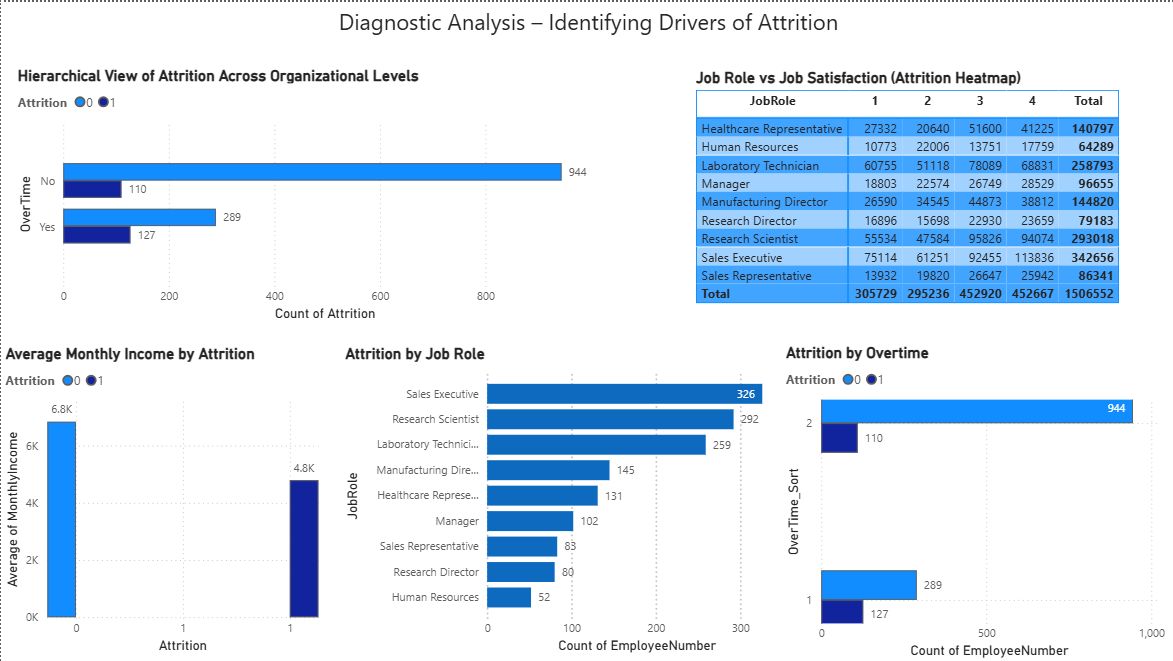

The dashboard page shown, as its layout file describes it:
{"tool":"powerbi","page":{"name":"DIAGNOSTIC ANALYSIS","canvas":[1280,720],"ordinal":1},"visuals":[{"type":"clusteredBarChart","title":"Attrition by Job Role","fields":{"Category":["cleaned_hr_data.JobRole"],"Y":["CountNonNull(cleaned_hr_data.EmployeeNumber)"]},"box":[369.6,373,501.4,340.5],"z":0},{"type":"clusteredColumnChart","title":"Average Monthly Income by Attrition","fields":{"Category":["cleaned_hr_data.Attrition"],"Y":["Avg(cleaned_hr_data.MonthlyIncome)"],"Series":["cleaned_hr_data.Attrition"]},"box":[0,373,350.8,340.5],"z":1000},{"type":"clusteredBarChart","title":"Attrition by Overtime","fields":{"Category":["cleaned_hr_data.OverTime_Sort"],"Series":["cleaned_hr_data.Attrition"],"Y":["CountNonNull(cleaned_hr_data.EmployeeNumber)"]},"box":[849.9,372.7,430,347.4],"z":2000},{"type":"clusteredBarChart","title":"Hierarchical View of Attrition Across Organizational Levels","fields":{"Category":["cleaned_hr_data.Department Hierarchy.Department","cleaned_hr_data.Department Hierarchy.JobRole","cleaned_hr_data.Department Hierarchy.OverTime","cleaned_hr_data.Department Hierarchy.JobSatisfaction"],"Y":["CountNonNull(cleaned_hr_data.Attrition)"],"Series":["cleaned_hr_data.Attrition"]},"box":[13.7,70.2,640,282.3],"z":3000},{"type":"pivotTable","title":"Job Role vs Job Satisfaction (Attrition Heatmap)","fields":{"Rows":["cleaned_hr_data.JobRole"],"Columns":["cleaned_hr_data.JobSatisfaction"],"Values":["Sum(cleaned_hr_data.EmployeeNumber)"]},"box":[752.1,72.5,478.9,286.7],"z":4000},{"type":"textbox","box":[0,0,1279.9,50.6],"z":5000}]}

Visuals, with their boxes in screenshot pixels (x1, y1, x2, y2), scaled from the page's 1280x720 canvas onto the 1173x661 screenshot:
"Attrition by Job Role" clusteredBarChart: x1=339 y1=342 x2=798 y2=655
"Average Monthly Income by Attrition" clusteredColumnChart: x1=0 y1=342 x2=321 y2=655
"Attrition by Overtime" clusteredBarChart: x1=779 y1=342 x2=1172 y2=660
"Hierarchical View of Attrition Across Organizational Levels" clusteredBarChart: x1=13 y1=64 x2=599 y2=324
"Job Role vs Job Satisfaction (Attrition Heatmap)" pivotTable: x1=689 y1=67 x2=1128 y2=330
textbox: x1=0 y1=0 x2=1172 y2=46
